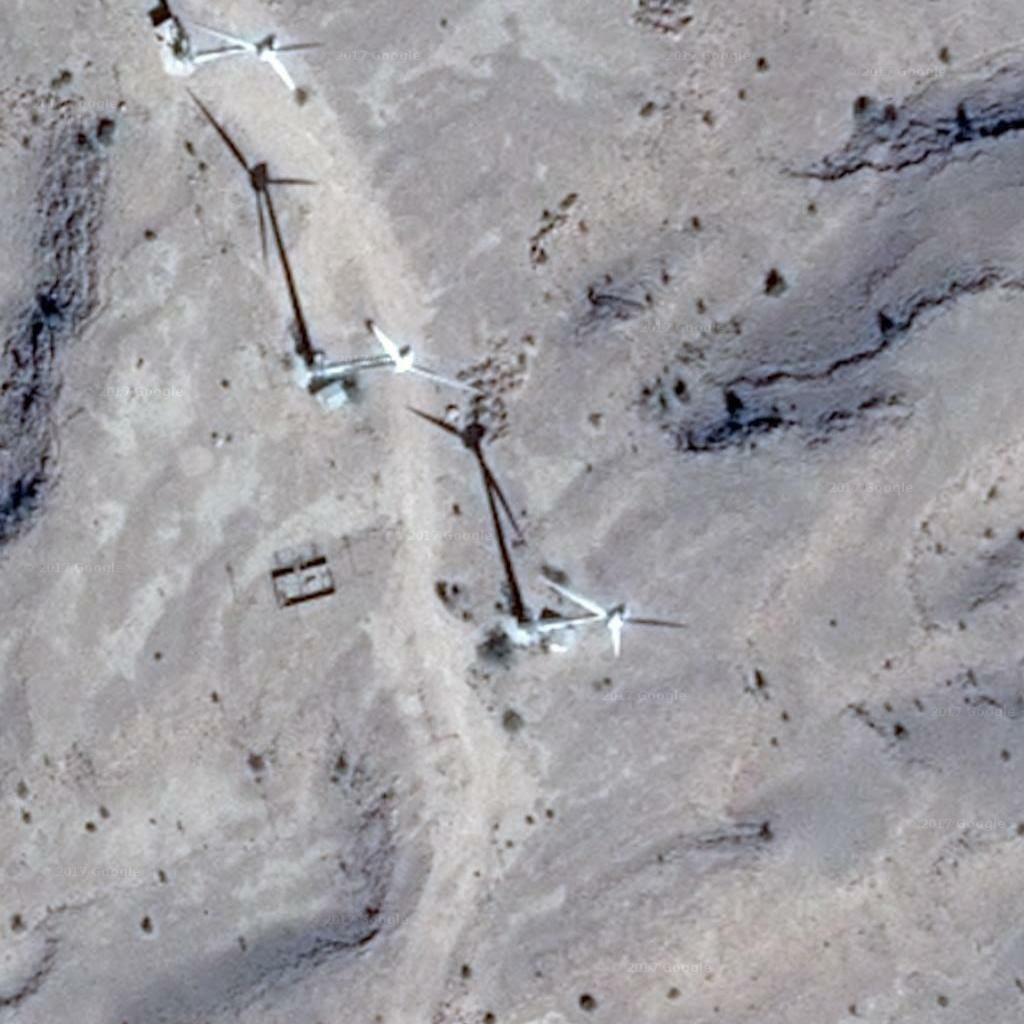Windmill: (403, 391, 545, 620)
